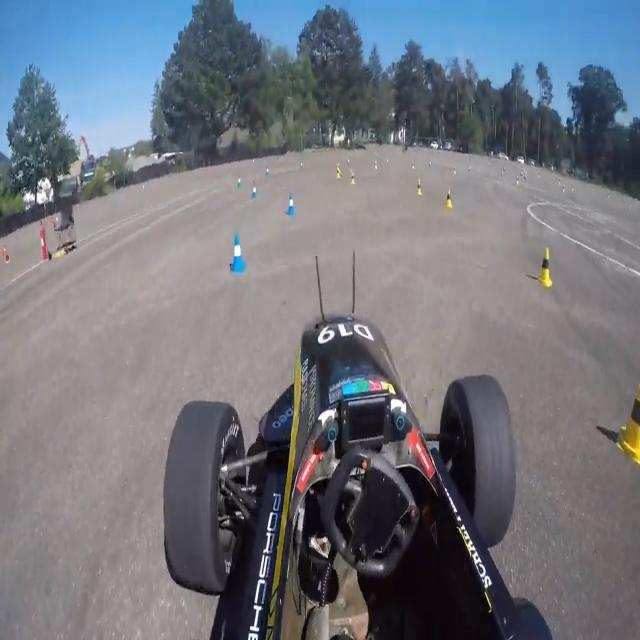blue_cone: (226, 233, 247, 276), (283, 190, 301, 220), (251, 182, 257, 198)
yellow_cone: (536, 243, 556, 302), (444, 183, 457, 210), (414, 176, 422, 208)
